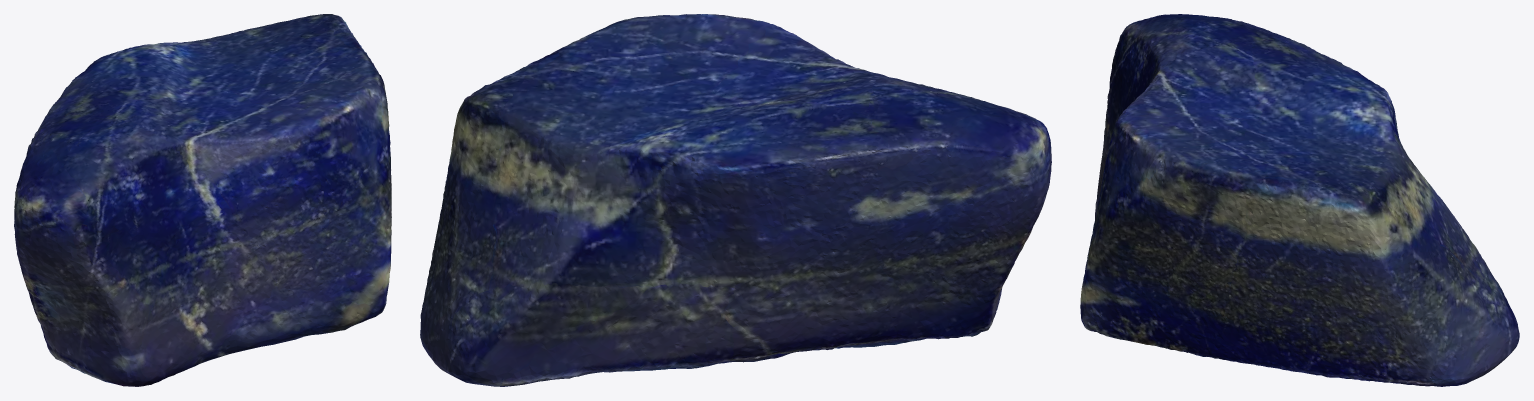
The model's file is waage-lapislazuli.glb.
The picture shows the model from 3 angles, left to right: view 1: azimuth 30°, elevation 25°; view 2: azimuth 150°, elevation 25°; view 3: azimuth 270°, elevation 25°; orthographic projection. The views are drawn at different scales.
Bounding box in the file's own units: 0.0915 × 0.0468 × 0.0826.
Materials: 1 (1 with a texture image).
